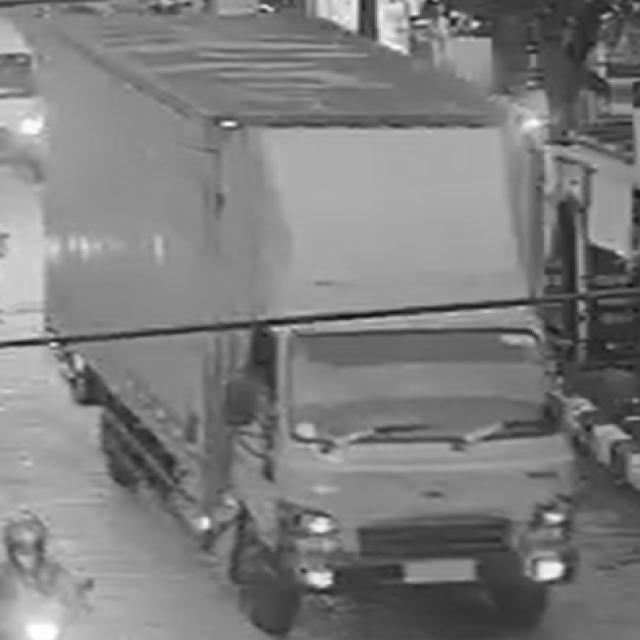Truck: (21, 8, 596, 640)
